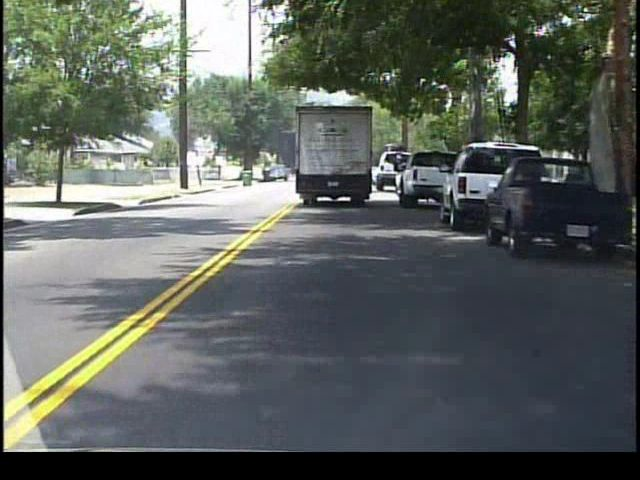person: (218, 163, 225, 182)
